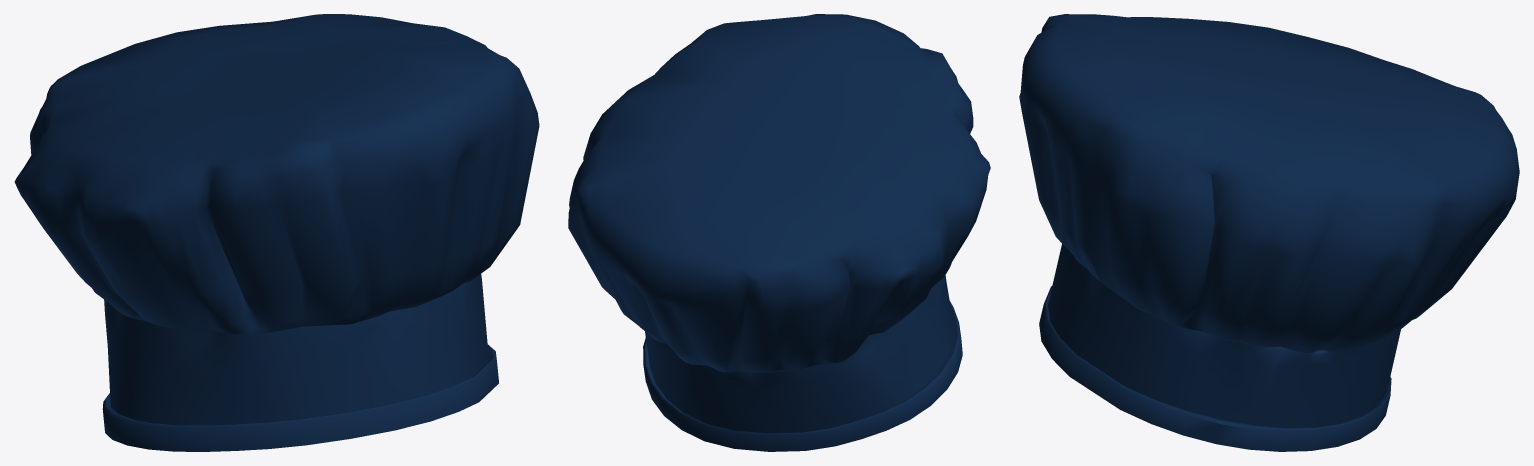
The model's file is Head_ChefHat_Blue.fbx.
The picture shows the model from 3 angles, left to right: view 1: azimuth 30°, elevation 25°; view 2: azimuth 150°, elevation 25°; view 3: azimuth 270°, elevation 25°; orthographic projection. The views are drawn at different scales.
Visible parts, largest first — view 1: Head_ChefHat_Blue; view 2: Head_ChefHat_Blue; view 3: Head_ChefHat_Blue.
Part boxes in pixels (x1,y1,x2,y2): Head_ChefHat_Blue: (14, 14, 539, 451); Head_ChefHat_Blue: (568, 14, 990, 451); Head_ChefHat_Blue: (1019, 14, 1519, 451).
Size of the model in its own units: 87.9 by 74.83 by 93.01.
